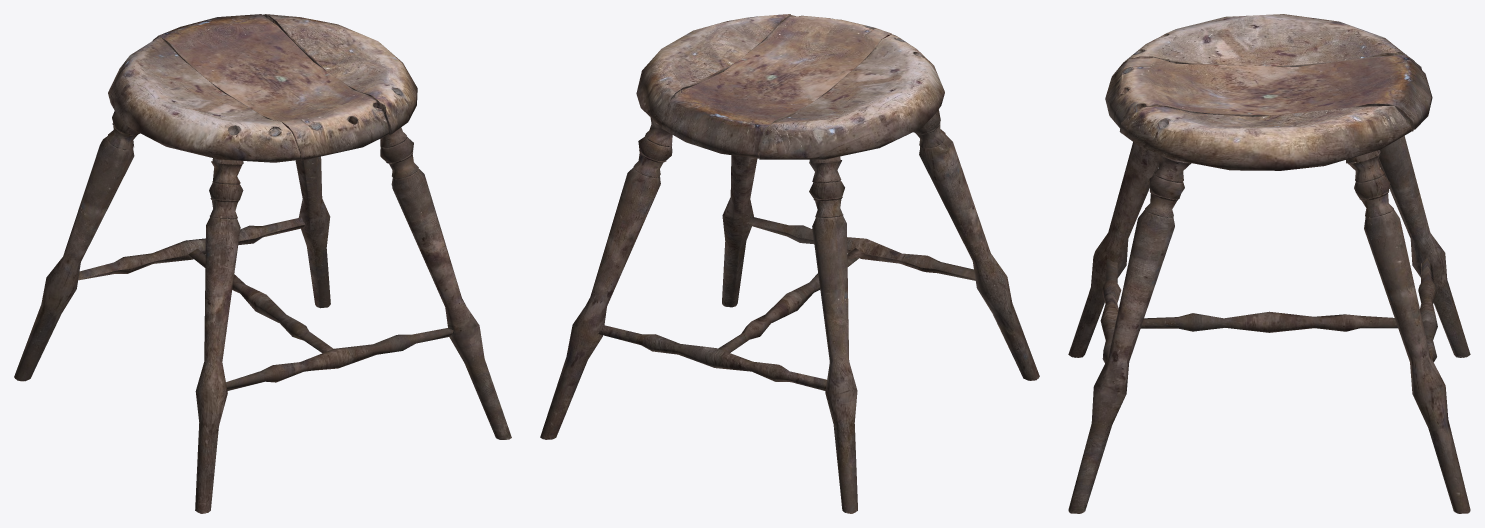
The model's file is wooden_stool_01.glb.
3 renders of one model, left to right at view 1: azimuth 30°, elevation 25°; view 2: azimuth 150°, elevation 25°; view 3: azimuth 270°, elevation 25°, orthographic. The views are drawn at different scales.
Parts seen in each view (by area): view 1: wooden_stool_01; view 2: wooden_stool_01; view 3: wooden_stool_01.
Boxes of the visible parts, box(x1,y1,x2,y2) form: wooden_stool_01: box(14, 14, 511, 513); wooden_stool_01: box(540, 14, 1039, 513); wooden_stool_01: box(1068, 14, 1470, 513).
Size of the model in its own units: 0.4246 by 0.4374 by 0.4424.
1 material, 1 textured.
